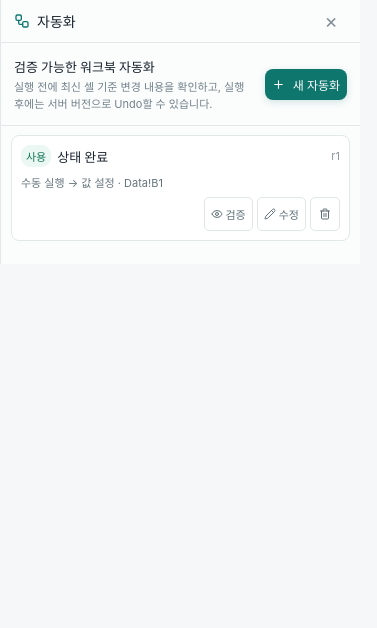
it: AutomationPanel › reports and retries run-history loading failures
Click the button "검증" at (228, 214), box [204,197,253,231]
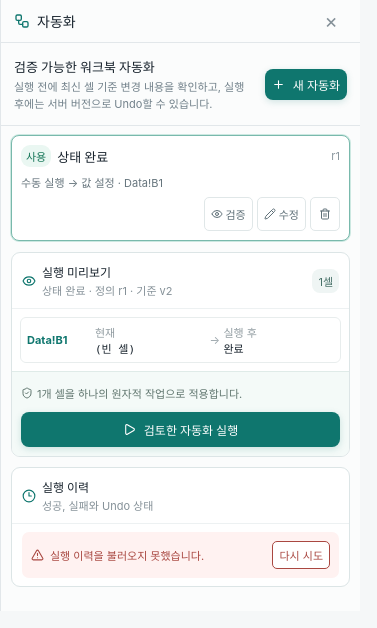
Click the button "다시 시도" at (301, 555), box [272,541,330,569]
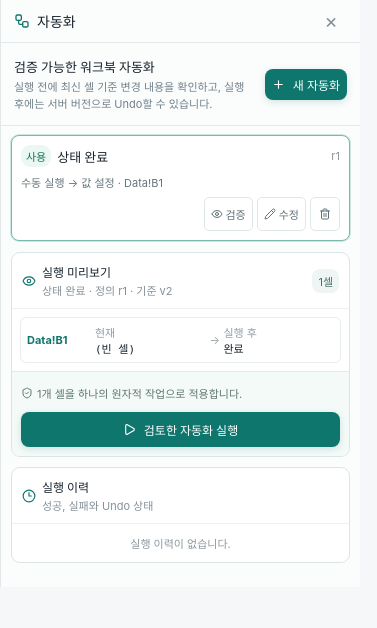
Check: the text "실행 이력이 없습니다." is shown, box [130,537,231,551]
